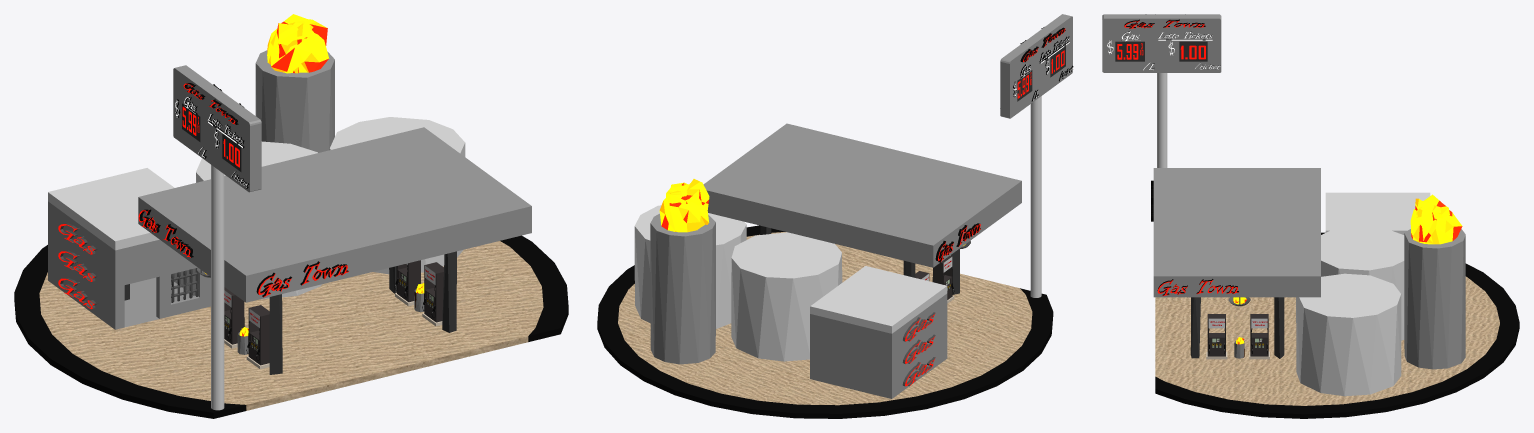
Rendered from Gastown.glb.
3 views of the same model, side by side, from view 1: azimuth 30°, elevation 25°; view 2: azimuth 150°, elevation 25°; view 3: azimuth 270°, elevation 25° (orthographic). The views are drawn at different scales.
Visible parts, largest first — view 1: Ground, Roof, Tanks, Sign, Walls, Roof.001, Pumps, Fire, Signs, Supports, Floor, Sign2 (+1 smaller); view 2: Ground, Roof, Tanks, Walls, Sign, Roof.001, Fire, Signs, Sign2, Pumps, Supports; view 3: Tanks, Ground, Roof, Sign, Roof.001, Fire, Pumps, Signs, Supports, Prices.
Part boxes in pixels (x1,y1,x2,y2): Ground: [14, 235, 568, 418]; Roof: [138, 127, 531, 302]; Tanks: [196, 50, 465, 299]; Sign: [173, 65, 261, 410]; Walls: [48, 201, 210, 329]; Roof.001: [48, 168, 174, 250]; Pumps: [224, 260, 443, 369]; Fire: [267, 14, 329, 73]; Signs: [138, 83, 348, 297]; Supports: [269, 251, 456, 374]; Floor: [124, 277, 189, 327]; Sign2: [58, 223, 97, 309]; Ground: [597, 225, 1053, 418]; Roof: [703, 123, 1021, 267]; Tanks: [634, 205, 842, 364]; Walls: [810, 293, 947, 398]; Sign: [1000, 14, 1072, 297]; Roof.001: [810, 266, 947, 333]; Fire: [659, 179, 709, 232]; Signs: [935, 27, 1073, 262]; Sign2: [902, 312, 935, 386]; Pumps: [915, 255, 954, 303]; Supports: [760, 225, 959, 294]; Tanks: [1296, 226, 1465, 396]; Ground: [1155, 232, 1519, 418]; Roof: [1153, 168, 1320, 297]; Sign: [1102, 14, 1221, 167]; Roof.001: [1325, 192, 1430, 234]; Fire: [1410, 194, 1462, 244]; Pumps: [1206, 314, 1269, 359]; Signs: [1107, 19, 1238, 295]; Supports: [1190, 297, 1284, 358]; Prices: [1117, 43, 1205, 59].
Bounding box in the file's own units: 25.15 × 16.13 × 24.33.
Materials: 44 (2 with a texture image).
